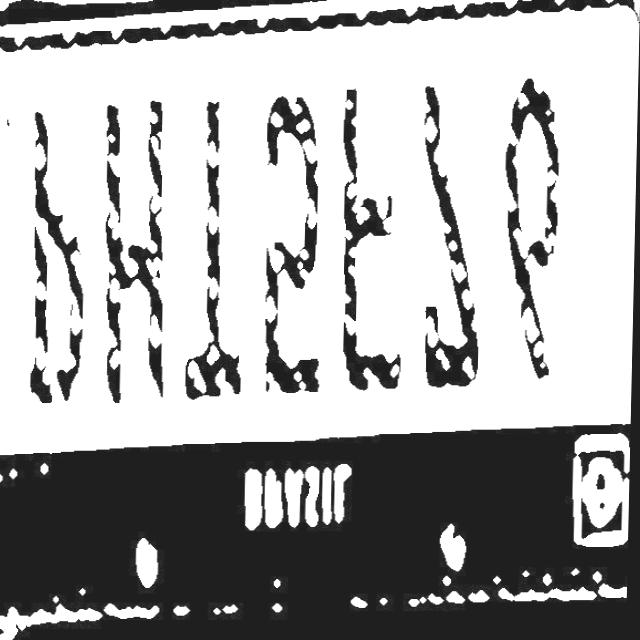5: (252, 88, 333, 407)
6: (494, 80, 573, 382)
7: (410, 87, 491, 400)
f: (336, 83, 417, 405)
h: (90, 87, 183, 412)
p: (19, 88, 94, 416)
t: (177, 101, 251, 403)
